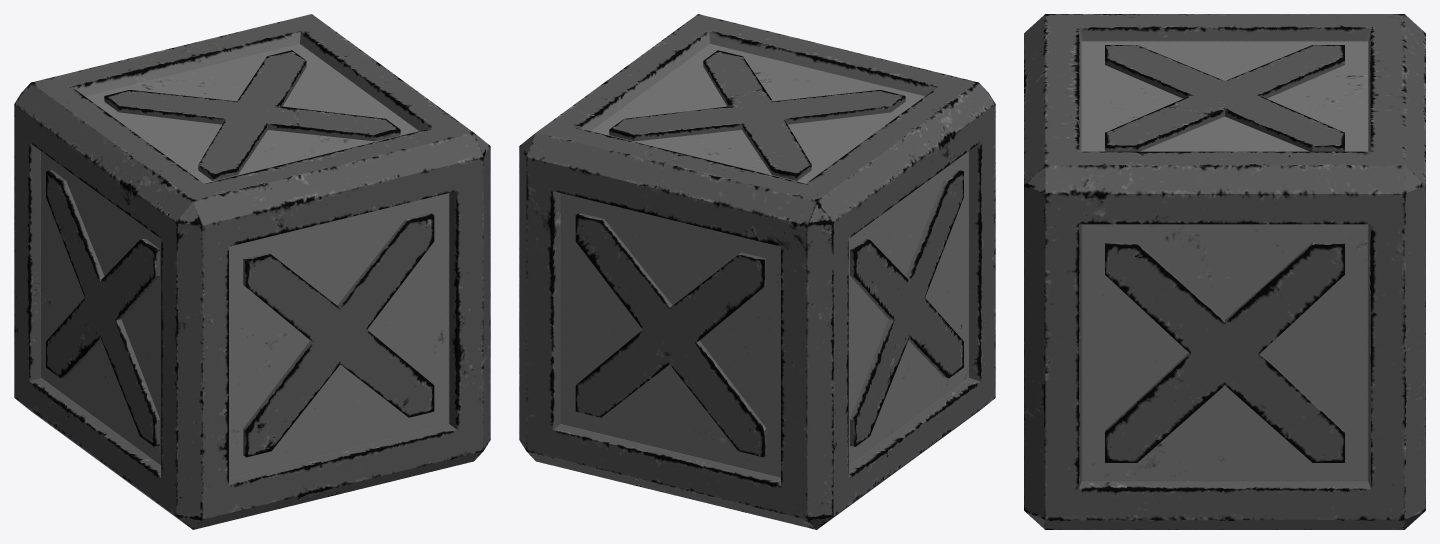
File: Crate.fbx
3 renders of one model, left to right at view 1: azimuth 30°, elevation 25°; view 2: azimuth 150°, elevation 25°; view 3: azimuth 270°, elevation 25°, orthographic. The views are drawn at different scales.
Visible parts, largest first — view 1: Crate; view 2: Crate; view 3: Crate.
Boxes of the visible parts, box(x1,y1,x2,y2) form: Crate: box(14, 14, 490, 529); Crate: box(519, 14, 995, 529); Crate: box(1024, 14, 1425, 529).
Bounding box in the file's own units: 200 × 200 × 200.
